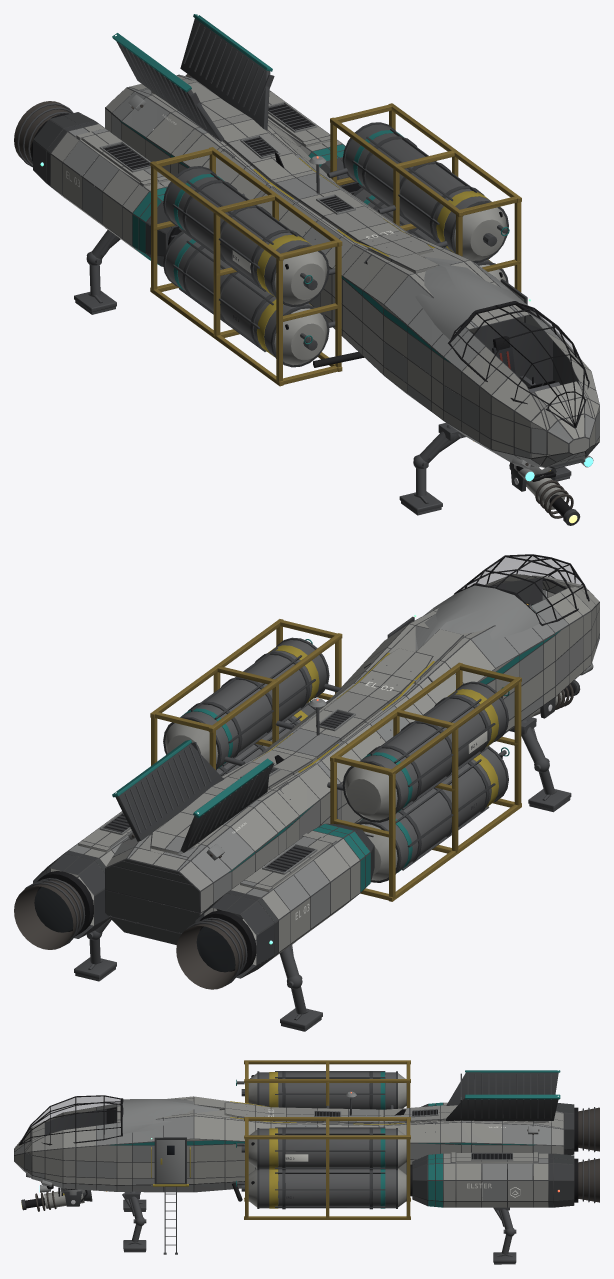
File: Elster.8c8116fc7e.glb
The picture shows the model from 3 angles, top to bottom: view 1: azimuth 30°, elevation 25°; view 2: azimuth 150°, elevation 25°; view 3: azimuth 270°, elevation 25°; orthographic projection. The views are drawn at different scales.
Visible parts, largest first — view 1: Gondel links.001, Duesenblock.006, Emitter.001, Erzkanister.004, Laengstraeger.008, Einlassgitter.010, Antenne.001, Beinlager.004, Cockpitwanne.001, Akzentstreifen.012, Duesenglocke.002; view 2: Gondel links.001, Emitter.001, Duesenblock.006, Erzkanister.004, Laengstraeger.008, Einlassgitter.010, Duesenglocke.002, Antenne.001, Beinlager.004, Glut.002, Akzentstreifen.012, Kanzelglas.001 (+1 smaller); view 3: Gondel links.001, Erzkanister.004, Duesenblock.006, Emitter.001, Laengstraeger.008, Antenne.001, Einlassgitter.010, Beinlager.004, Duesenglocke.002, Akzentstreifen.012, Cockpitwanne.001, Kanzelglas.001.
Boxes of the visible parts, left/top/right/bottom form: Gondel links.001: left=33, top=14, right=599, bottom=509; Duesenblock.006: left=63, top=74, right=599, bottom=481; Emitter.001: left=33, top=18, right=585, bottom=525; Erzkanister.004: left=165, top=124, right=491, bottom=356; Laengstraeger.008: left=150, top=103, right=521, bottom=386; Einlassgitter.010: left=17, top=23, right=506, bottom=350; Antenne.001: left=30, top=104, right=589, bottom=516; Beinlager.004: left=74, top=228, right=571, bottom=515; Cockpitwanne.001: left=474, top=319, right=584, bottom=428; Akzentstreifen.012: left=253, top=158, right=550, bottom=471; Duesenglocke.002: left=14, top=74, right=573, bottom=518; Gondel links.001: left=33, top=574, right=599, bottom=978; Emitter.001: left=33, top=616, right=580, bottom=978; Duesenblock.006: left=69, top=585, right=599, bottom=944; Erzkanister.004: left=180, top=640, right=506, bottom=872; Laengstraeger.008: left=150, top=619, right=521, bottom=901; Einlassgitter.010: left=23, top=662, right=506, bottom=985; Duesenglocke.002: left=14, top=684, right=573, bottom=989; Antenne.001: left=37, top=554, right=589, bottom=975; Beinlager.004: left=74, top=716, right=571, bottom=1031; Glut.002: left=34, top=887, right=235, bottom=972; Akzentstreifen.012: left=254, top=645, right=498, bottom=807; Kanzelglas.001: left=463, top=556, right=581, bottom=588; Gondel links.001: left=14, top=1070, right=574, bottom=1208; Erzkanister.004: left=259, top=1072, right=395, bottom=1208; Duesenblock.006: left=14, top=1091, right=563, bottom=1200; Emitter.001: left=21, top=1071, right=573, bottom=1210; Laengstraeger.008: left=244, top=1060, right=410, bottom=1219; Antenne.001: left=18, top=1075, right=578, bottom=1208; Einlassgitter.010: left=237, top=1073, right=595, bottom=1203; Beinlager.004: left=122, top=1186, right=516, bottom=1264; Duesenglocke.002: left=35, top=1107, right=599, bottom=1211; Akzentstreifen.012: left=63, top=1072, right=404, bottom=1208; Cockpitwanne.001: left=45, top=1109, right=116, bottom=1162; Kanzelglas.001: left=32, top=1096, right=120, bottom=1126.
Bounding box in the file's own units: 7.02 × 6.26 × 22.81.
